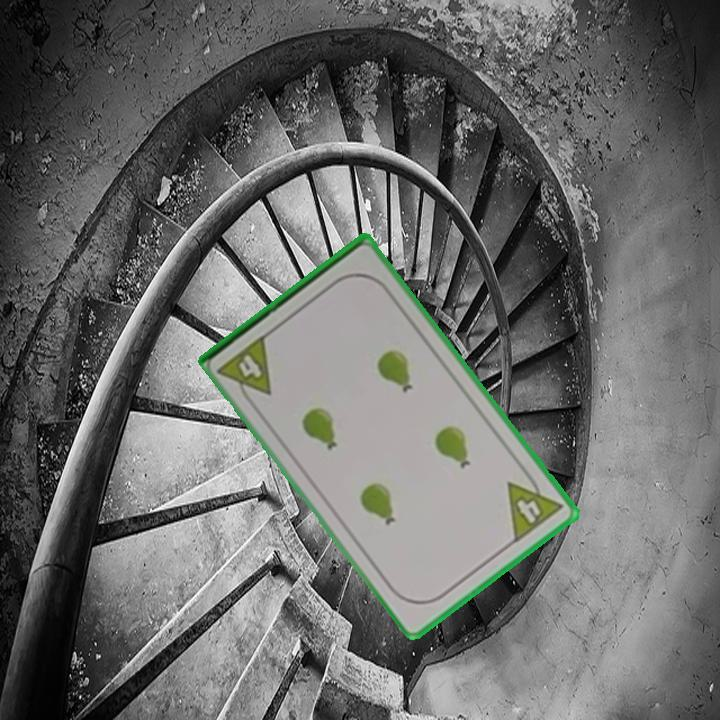4p: (503, 466, 566, 546), (215, 330, 275, 409)
